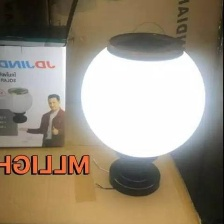book: (0, 20, 74, 151)
light_bulb: (77, 28, 209, 164)
